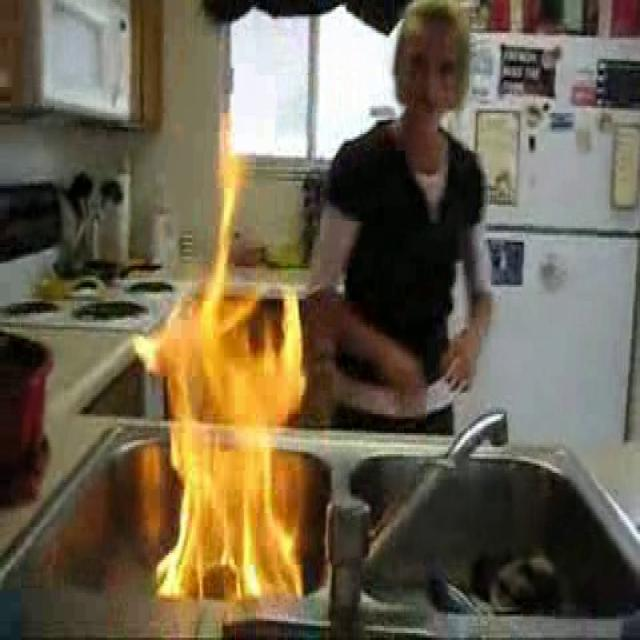fire: (152, 193, 302, 613)
